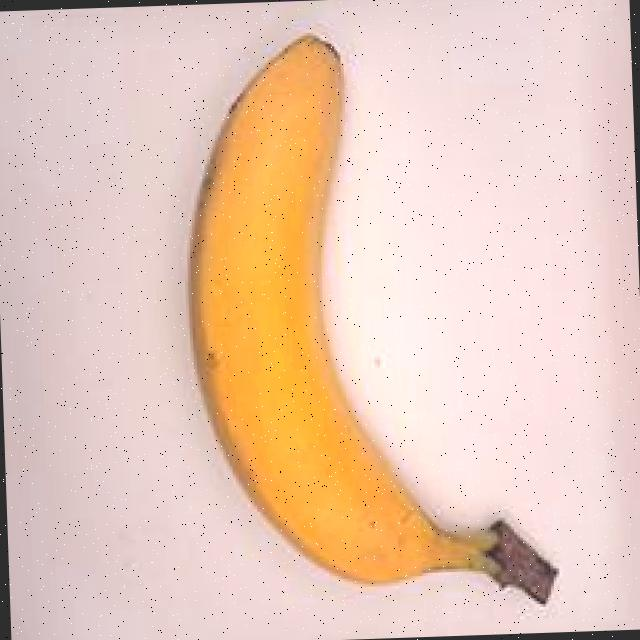Ripe: (118, 20, 598, 628)
